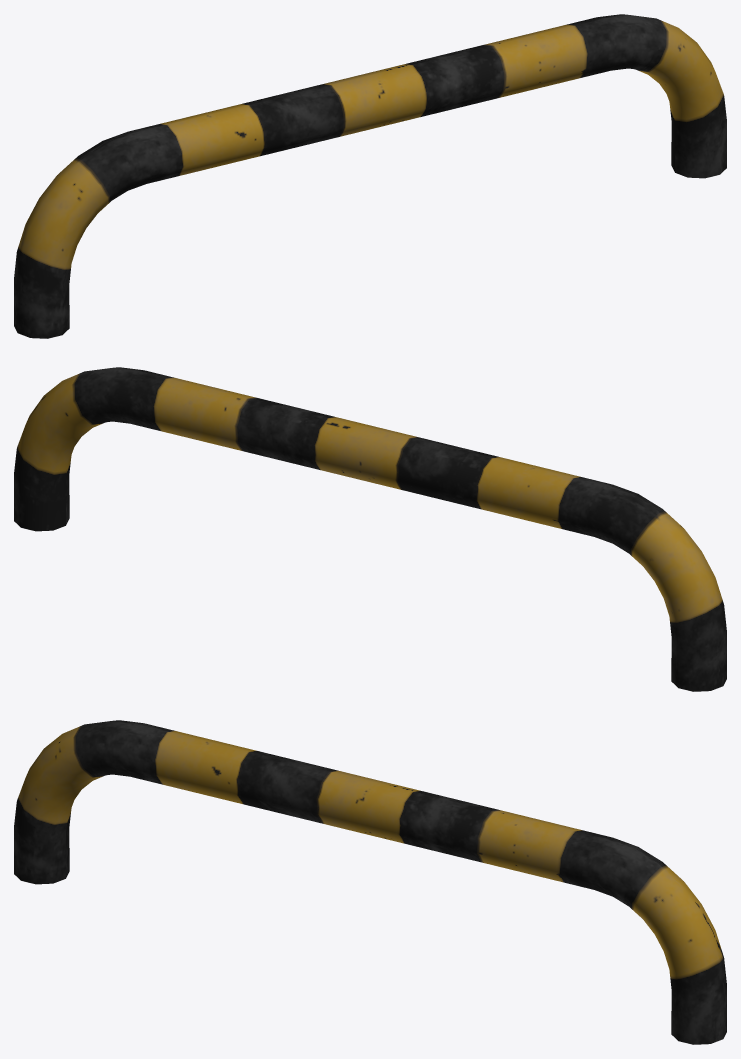
The model's file is RoadBarrier02.FBX.
3 renders of one model, top to bottom at view 1: azimuth 30°, elevation 25°; view 2: azimuth 150°, elevation 25°; view 3: azimuth 330°, elevation 25°, orthographic.
Parts seen in each view (by area): view 1: RoadBarrier02; view 2: RoadBarrier02; view 3: RoadBarrier02.
Part boxes in pixels (x1,y1,x2,y2): RoadBarrier02: [14, 14, 726, 338]; RoadBarrier02: [14, 367, 726, 691]; RoadBarrier02: [14, 720, 726, 1044].
Size of the model in its own units: 51.78 by 12.02 by 3.37.
